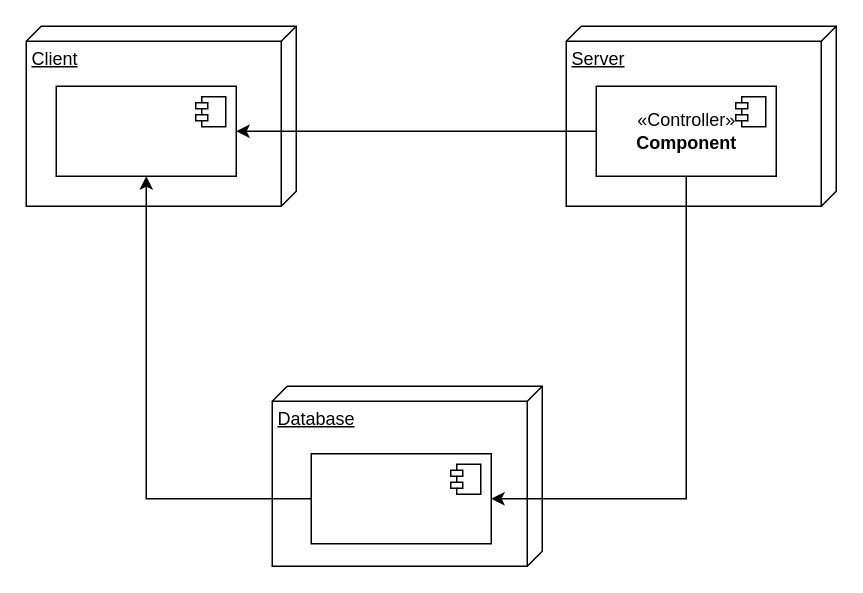
The diagram is 863 pixels wide and 593 high, and some of its shapes have lost their labels. The shapes that lost their labels are listed below. From the top down, each one's centre as x and y in pixels, then its label:
At [145,130]: "«View» Component".
At [400,498]: "«Model» Component".
